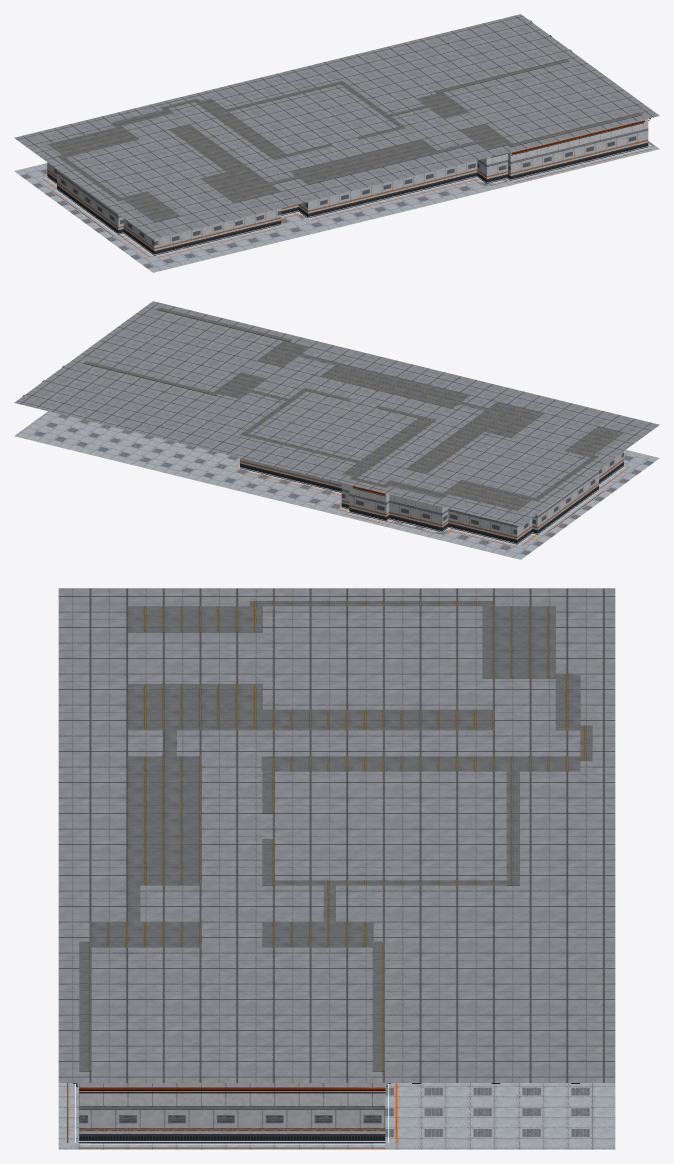
The model's file is Stage1VisualDetail.fbx.
3 renders of one model, top to bottom at view 1: azimuth 30°, elevation 25°; view 2: azimuth 150°, elevation 25°; view 3: azimuth 270°, elevation 25°, orthographic. The views are drawn at different scales.
Parts seen in each view (by area): view 1: Ceiling, Top, Wall, Floor, FloorLine_Orange, LED_Blue; view 2: Ceiling, Top, Floor, Wall, FloorLine_Orange; view 3: Ceiling, Top, Floor, Wall, Pipe_Orange, Pipe_Gray, FloorLine_Orange.
Boxes of the visible parts, x1,y1,x2,y2 form: Ceiling: [14, 14, 659, 239]; Top: [48, 59, 642, 222]; Wall: [47, 61, 648, 255]; Floor: [14, 141, 659, 272]; FloorLine_Orange: [42, 142, 652, 257]; LED_Blue: [47, 146, 647, 254]; Ceiling: [14, 301, 659, 526]; Top: [83, 307, 623, 510]; Floor: [14, 411, 659, 559]; Wall: [83, 310, 623, 544]; FloorLine_Orange: [235, 463, 628, 546]; Ceiling: [58, 588, 615, 1082]; Top: [79, 601, 592, 1071]; Floor: [58, 1083, 615, 1149]; Wall: [79, 632, 519, 1143]; Pipe_Orange: [73, 1083, 390, 1090]; Pipe_Gray: [76, 1083, 387, 1093]; FloorLine_Orange: [67, 1083, 397, 1148].
Size of the model in its own units: 9589 by 648 by 4551.
13 materials, 6 textured.
